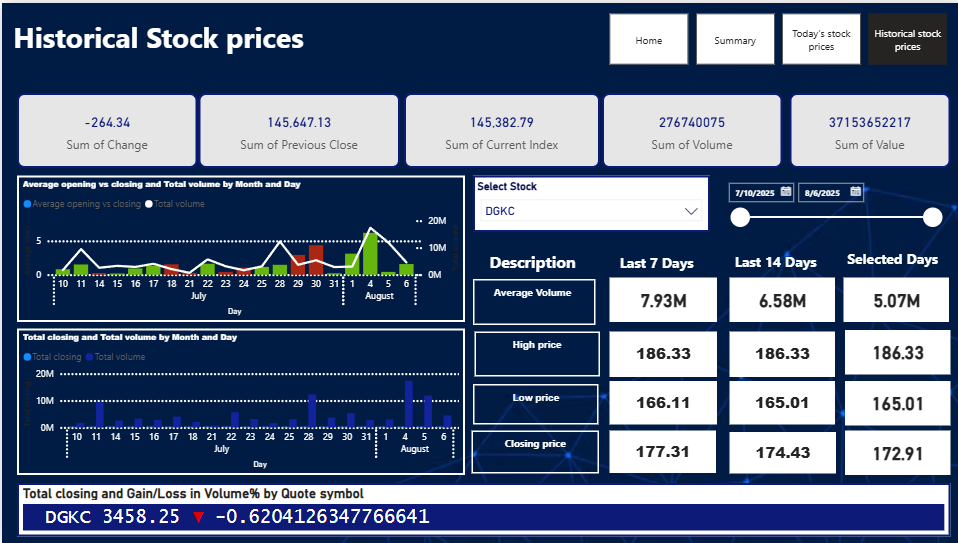

What the dashboard file says about the page in this screenshot:
{"tool":"powerbi","page":{"name":"Historical stock prices","canvas":[1280,720],"ordinal":3},"visuals":[{"type":"ScrollingTextVisual1448795304508","fields":{"Category":["stock data.Quote symbol"],"Measure Absolute":["key_measures.Total closing"],"Measure Deviation":["key_measures.Gain/Loss in Volume%"]},"box":[19.8,639.5,1244.4,71.6],"z":0},{"type":"lineClusteredColumnComboChart","fields":{"Category":["stock data.Date.Variation.Date Hierarchy.Month","stock data.Date.Variation.Date Hierarchy.Day"],"Y":["key_measures.Average opening vs closing"],"Y2":["key_measures.Total volume"]},"box":[20,230.6,597.6,195.3],"z":1000},{"type":"slicer","title":"Select Stock","fields":{"Values":["stock data.Quote symbol"]},"box":[627.2,230.9,316,75.3],"z":2000},{"type":"textbox","box":[941.2,325.9,178.8,83.5],"z":3000},{"type":"textbox","box":[628.2,323.5,158.8,64.7],"z":4000},{"type":"textbox","box":[787.1,328.2,169.4,78.8],"z":5000},{"type":"textbox","box":[1098.8,321.2,178.8,91.8],"z":6000},{"type":"textbox","box":[628.2,367.1,163.5,61.2],"z":7000},{"type":"textbox","box":[629.4,438.8,167.1,60],"z":8000},{"type":"textbox","box":[627.8,508.5,167.6,54],"z":9000},{"type":"textbox","box":[626.6,570.4,169.9,57.4],"z":10000},{"type":"slicer","fields":{"Values":["stock data.Date"]},"box":[956.8,230.9,306.2,81.5],"z":11000},{"type":"card","fields":{"Values":["Average_measures.Average Volume Last 7 Days"]},"box":[809.9,366.7,143.2,59.3],"z":12000},{"type":"card","fields":{"Values":["Average_measures.Average Volume Last 14 Days"]},"box":[970.4,366.7,140.7,59.3],"z":13000},{"type":"card","fields":{"Values":["Average_measures.High Price Last 7 Days"]},"box":[809.9,438.3,143.2,60.5],"z":14000},{"type":"card","fields":{"Values":["Average_measures.High Price Last 14 Days"]},"box":[970.4,438.3,140.7,60.5],"z":15000},{"type":"card","fields":{"Values":["Average_measures.Low Price Last 7 Days"]},"box":[809.9,504.9,143.2,58],"z":16000},{"type":"card","fields":{"Values":["Average_measures.Low Price Last 14 Days"]},"box":[970.4,504.9,140.7,58],"z":17000},{"type":"card","fields":{"Values":["Average_measures.Average Closing Price Last 7 Days"]},"box":[809.9,570.4,142,56.8],"z":18000},{"type":"card","fields":{"Values":["Average_measures.Average Closing Price Last 14 Days"]},"box":[969.1,571.6,142,55.6],"z":19000},{"type":"card","fields":{"Values":["Average_measures.All time low price"]},"box":[1123.5,504.9,140.7,59.3],"z":20000},{"type":"card","fields":{"Values":["Average_measures.Average close"]},"box":[1123.5,569.1,140.7,59.3],"z":21000},{"type":"card","fields":{"Values":["Average_measures.Average volume"]},"box":[1122.2,366.7,140.7,59.3],"z":22000},{"type":"card","fields":{"Values":["Average_measures.All time high price"]},"box":[1123.5,435.8,140.7,59.3],"z":23000},{"type":"lineClusteredColumnComboChart","fields":{"Category":["stock data.Date.Variation.Date Hierarchy.Month","stock data.Date.Variation.Date Hierarchy.Day"],"Y":["key_measures.Total closing","key_measures.Total volume"]},"box":[19.8,433.3,597.5,195.1],"z":24000},{"type":"textbox","box":[9,13.5,552.4,68.6],"z":25000},{"type":"card","fields":{"Values":["Sum(Market Highlights.Volume)"]},"box":[799.9,119.2,240.8,100.1],"z":26000},{"type":"card","fields":{"Values":["Sum(Market Highlights.Change)"]},"box":[20.2,119.2,240.8,100.1],"z":27000},{"type":"card","fields":{"Values":["Sum(Market Highlights.Previous Close)"]},"box":[261,119.2,268.9,100.1],"z":28000},{"type":"card","fields":{"Values":["Sum(Market Highlights.Current Index)"]},"box":[535.5,119.2,261,100.1],"z":29000},{"type":"card","fields":{"Values":["Sum(Market Highlights.Value)"]},"box":[1049.6,119.2,214.9,100.1],"z":30000},{"type":"pageNavigator","box":[810,13.5,453.4,68.6],"z":31000}]}

Visuals, with their boxes in screenshot pixels (x1, y1, x2, y2), scaled from the page's 1280x720 canvas onto the 958x543 screenshot:
ScrollingTextVisual1448795304508 - stock data.Quote symbol x key_measures.Total closing: x1=15 y1=482 x2=946 y2=536
lineClusteredColumnComboChart - stock data.Date.Variation.Date Hierarchy.Month x stock data.Date.Variation.Date Hierarchy.Day: x1=15 y1=174 x2=462 y2=321
"Select Stock" slicer: x1=469 y1=174 x2=706 y2=231
textbox: x1=704 y1=246 x2=838 y2=309
textbox: x1=470 y1=244 x2=589 y2=293
textbox: x1=589 y1=248 x2=716 y2=307
textbox: x1=822 y1=242 x2=956 y2=311
textbox: x1=470 y1=277 x2=593 y2=323
textbox: x1=471 y1=331 x2=596 y2=376
textbox: x1=470 y1=383 x2=595 y2=424
textbox: x1=469 y1=430 x2=596 y2=473
slicer - stock data.Date: x1=716 y1=174 x2=945 y2=236
card - Average_measures.Average Volume Last 7 Days: x1=606 y1=277 x2=713 y2=321
card - Average_measures.Average Volume Last 14 Days: x1=726 y1=277 x2=832 y2=321
card - Average_measures.High Price Last 7 Days: x1=606 y1=331 x2=713 y2=376
card - Average_measures.High Price Last 14 Days: x1=726 y1=331 x2=832 y2=376
card - Average_measures.Low Price Last 7 Days: x1=606 y1=381 x2=713 y2=425
card - Average_measures.Low Price Last 14 Days: x1=726 y1=381 x2=832 y2=425
card - Average_measures.Average Closing Price Last 7 Days: x1=606 y1=430 x2=712 y2=473
card - Average_measures.Average Closing Price Last 14 Days: x1=725 y1=431 x2=832 y2=473
card - Average_measures.All time low price: x1=841 y1=381 x2=946 y2=426
card - Average_measures.Average close: x1=841 y1=429 x2=946 y2=474
card - Average_measures.Average volume: x1=840 y1=277 x2=945 y2=321
card - Average_measures.All time high price: x1=841 y1=329 x2=946 y2=373
lineClusteredColumnComboChart - stock data.Date.Variation.Date Hierarchy.Month x stock data.Date.Variation.Date Hierarchy.Day: x1=15 y1=327 x2=462 y2=474
textbox: x1=7 y1=10 x2=420 y2=62
card - Sum(Market Highlights.Volume): x1=599 y1=90 x2=779 y2=165
card - Sum(Market Highlights.Change): x1=15 y1=90 x2=195 y2=165
card - Sum(Market Highlights.Previous Close): x1=195 y1=90 x2=397 y2=165
card - Sum(Market Highlights.Current Index): x1=401 y1=90 x2=596 y2=165
card - Sum(Market Highlights.Value): x1=786 y1=90 x2=946 y2=165
pageNavigator: x1=606 y1=10 x2=946 y2=62
